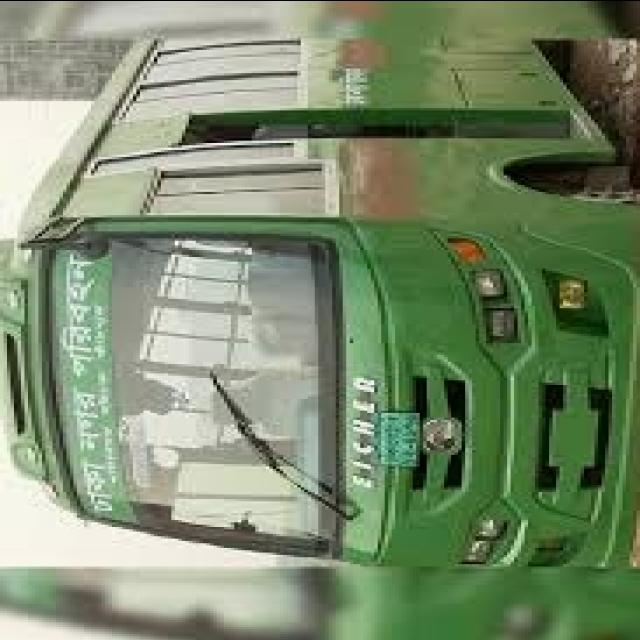bus: (1, 33, 640, 565)
